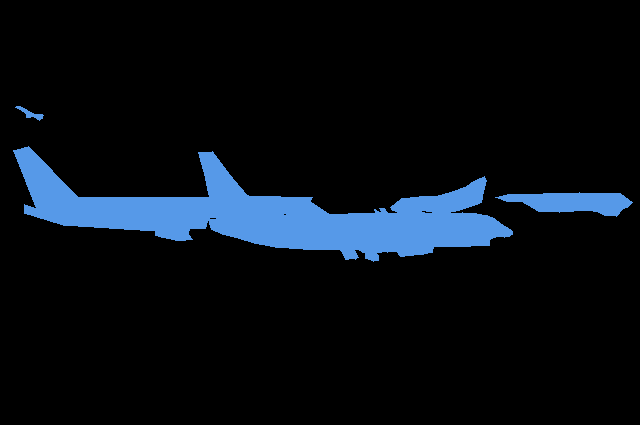Airplane: (198, 151, 512, 262), (13, 146, 330, 241), (390, 176, 486, 218), (495, 192, 633, 216), (15, 106, 44, 120)
